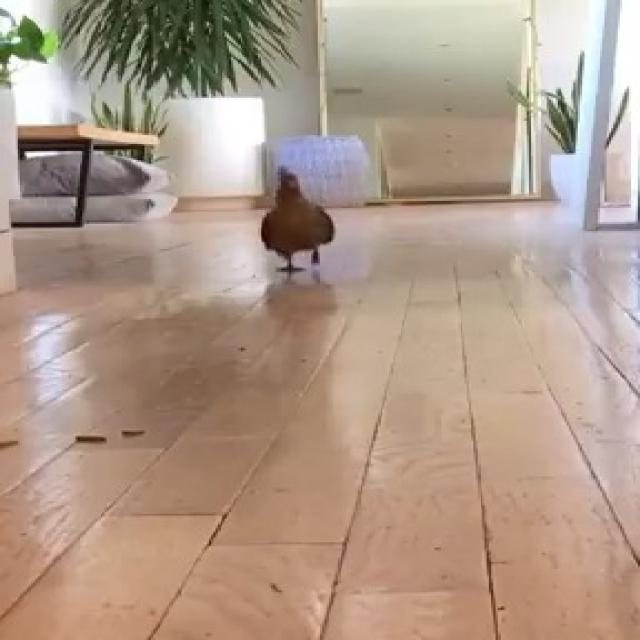running: (258, 155, 346, 288)
